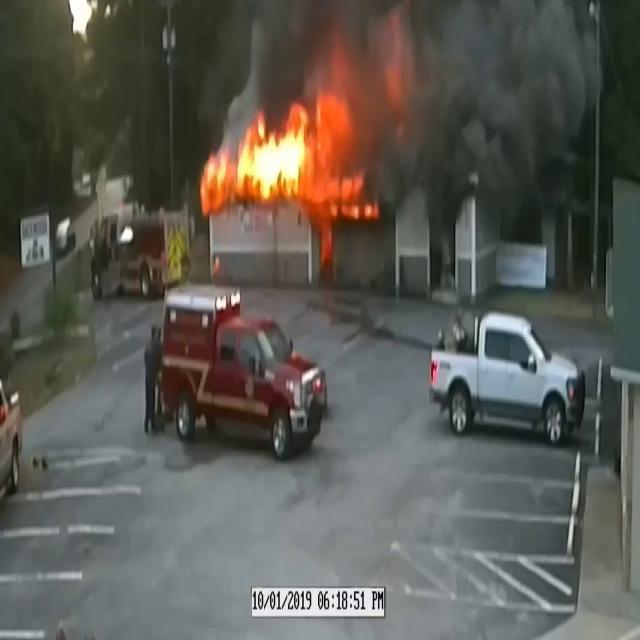Fire: (205, 71, 374, 231)
Smoke: (383, 0, 598, 248)
